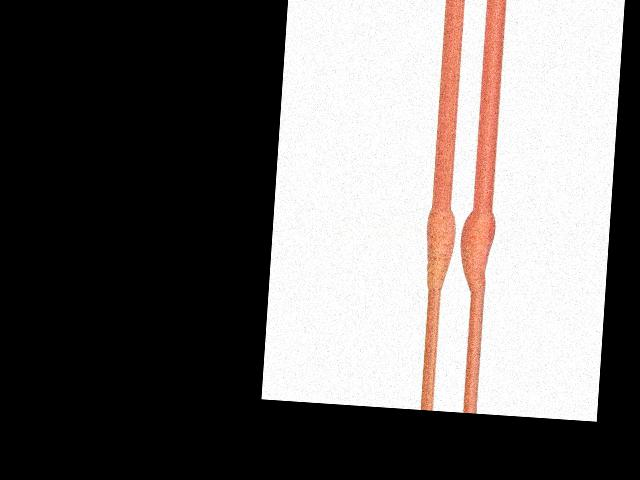sweet_potato: (423, 207, 457, 289)
